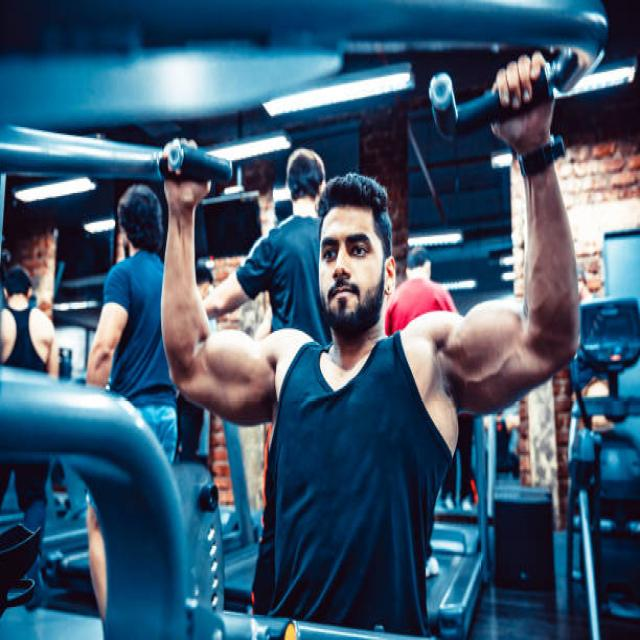no_helmet: (301, 213, 399, 300)
